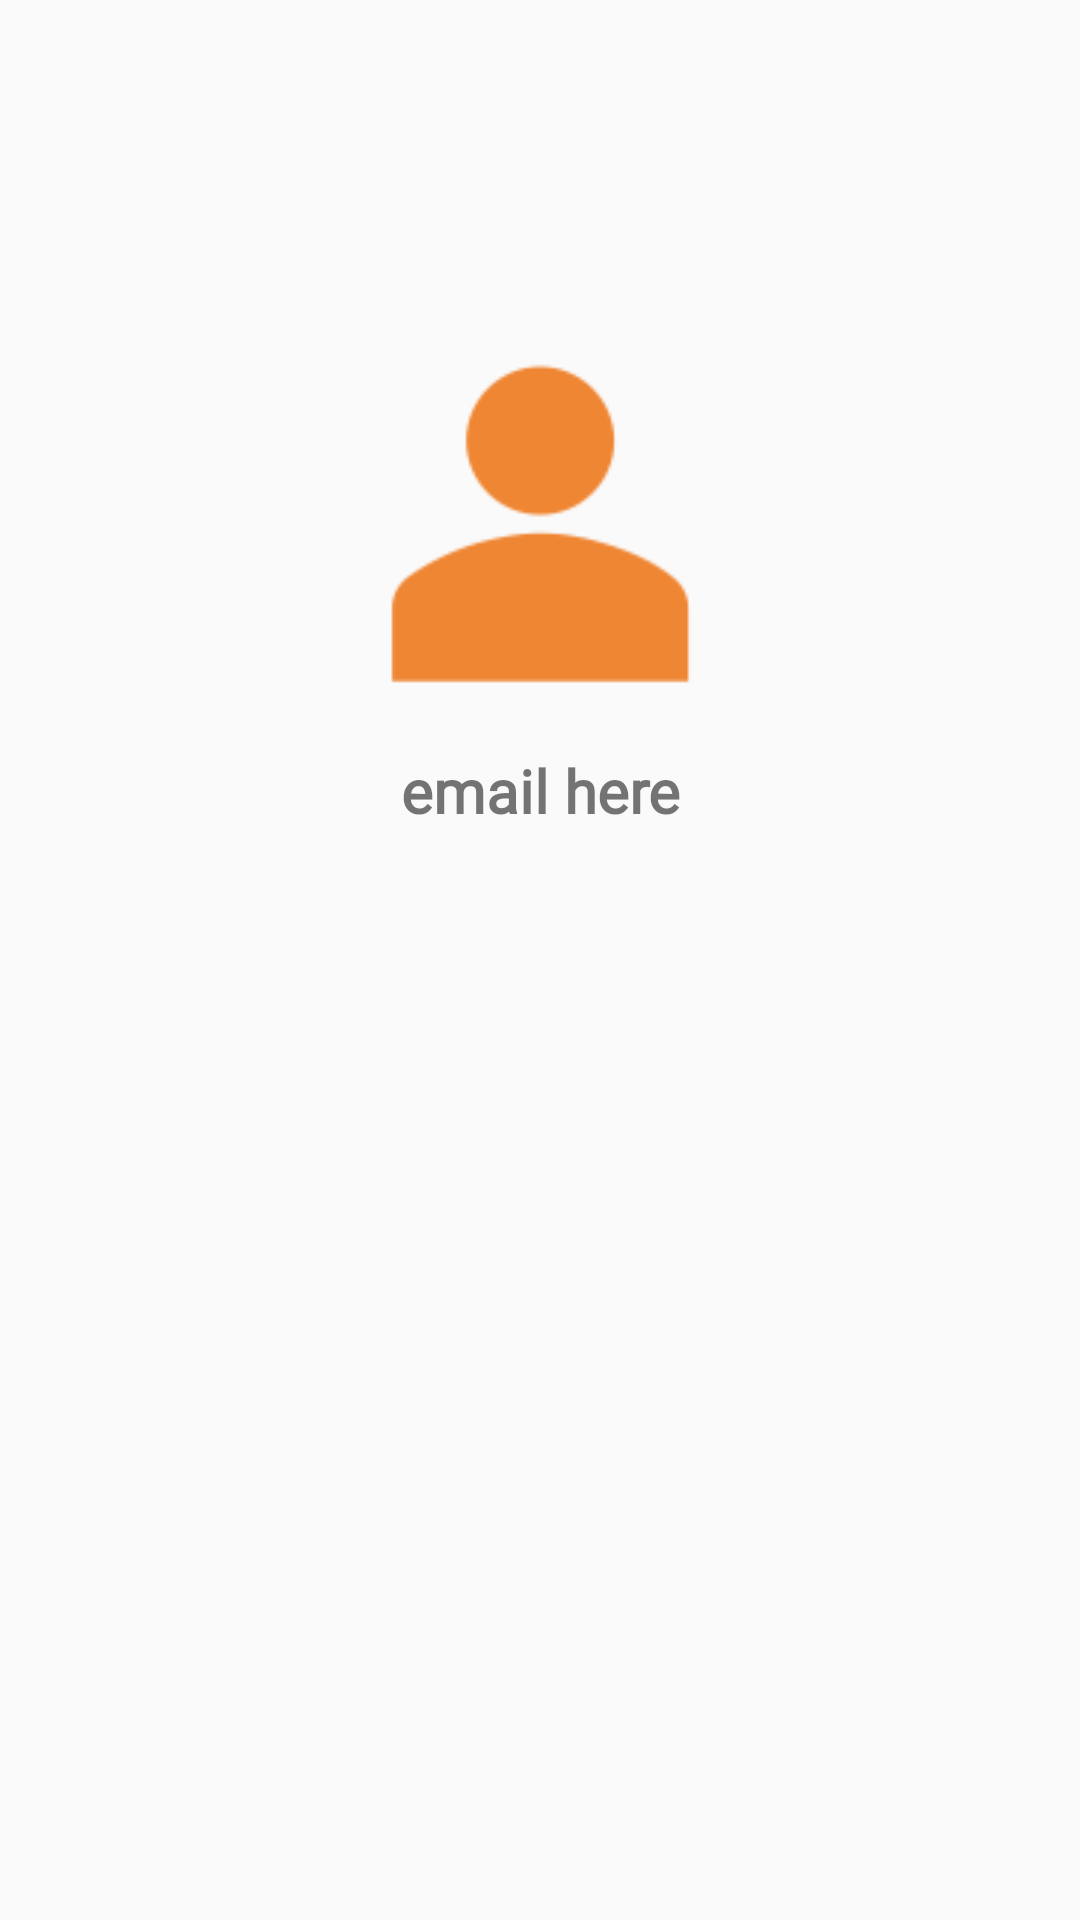

Where icons sit on this 1080 x 1920 app screen, as (x1, y1, x2, y2):
player: (391, 364, 689, 683)
